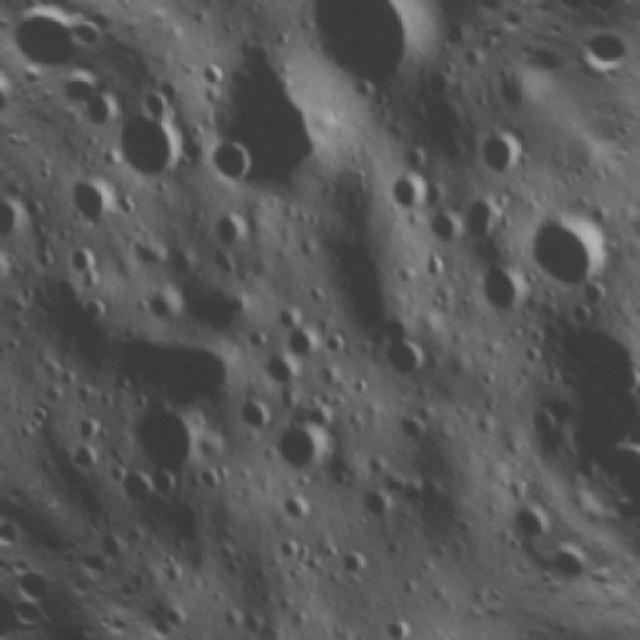crater: (160, 23, 365, 229), (98, 284, 254, 439), (272, 0, 460, 126), (107, 386, 224, 503), (88, 86, 204, 202), (512, 189, 628, 305), (260, 404, 343, 488), (370, 315, 447, 394), (465, 248, 541, 323), (466, 113, 540, 187), (193, 124, 265, 196), (54, 160, 126, 232), (448, 183, 517, 252), (496, 484, 564, 554), (378, 161, 442, 225), (104, 453, 167, 516), (133, 274, 193, 334), (414, 193, 472, 252), (514, 394, 572, 452), (128, 74, 184, 129), (293, 385, 349, 440), (139, 455, 195, 510), (268, 479, 322, 533), (326, 534, 380, 588), (351, 472, 403, 525), (59, 429, 110, 480), (186, 449, 237, 500), (204, 202, 256, 252), (124, 226, 174, 276), (263, 521, 312, 570), (560, 289, 608, 336), (185, 49, 232, 96), (54, 234, 101, 281), (265, 294, 312, 341), (281, 318, 328, 365), (388, 404, 435, 451), (373, 601, 424, 640), (398, 134, 439, 178), (617, 349, 640, 425), (0, 188, 29, 246), (315, 322, 356, 363), (577, 271, 617, 311), (47, 356, 87, 396), (0, 235, 25, 297), (72, 289, 110, 326), (34, 374, 71, 412), (64, 370, 101, 407), (240, 323, 275, 359)
